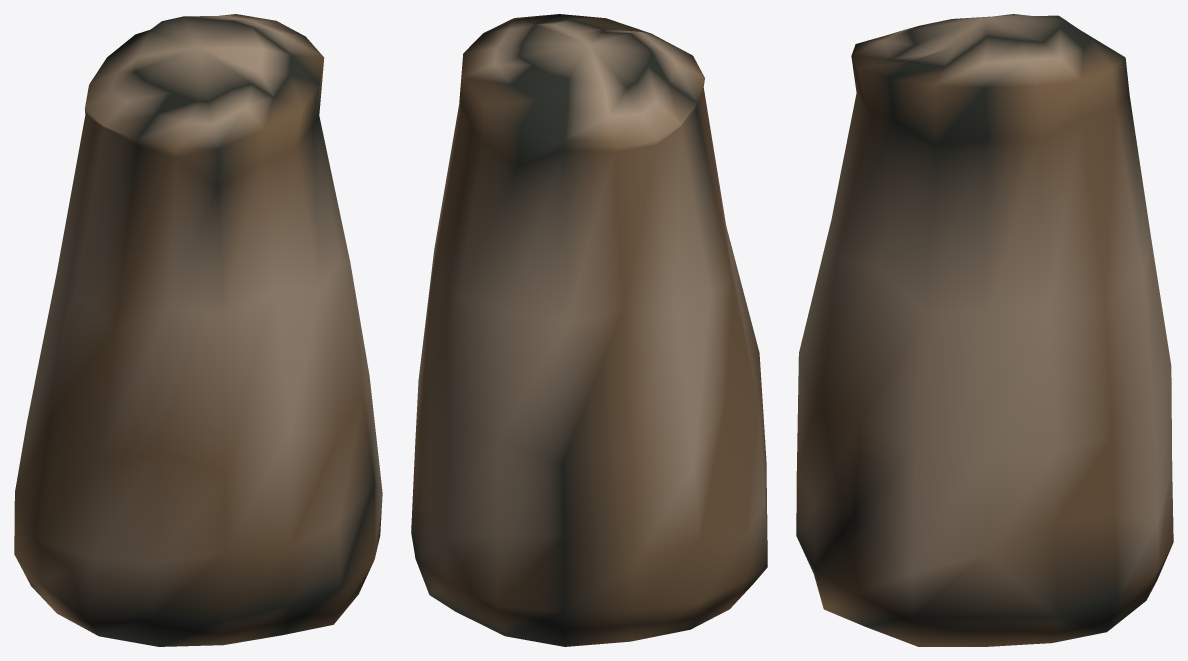
File: Stalagnat_down.fbx
3 views of the same model, side by side, from view 1: azimuth 30°, elevation 25°; view 2: azimuth 150°, elevation 25°; view 3: azimuth 270°, elevation 25° (orthographic). The views are drawn at different scales.
Visible parts, largest first — view 1: Stalagnat_down0; view 2: Stalagnat_down0; view 3: Stalagnat_down0.
Boxes of the visible parts, x1,y1,x2,y2 form: Stalagnat_down0: (14, 14, 382, 646); Stalagnat_down0: (411, 14, 767, 646); Stalagnat_down0: (796, 14, 1173, 646).
Size of the model in its own units: 68.9 by 116 by 68.02.
